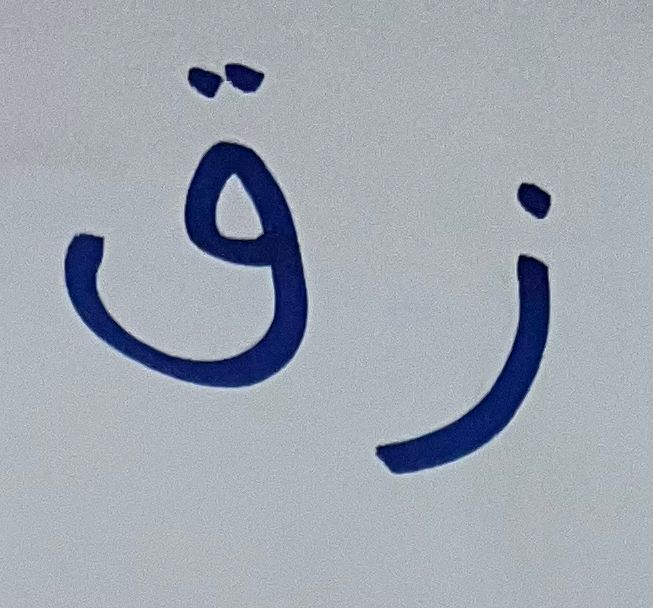qaf: (39, 28, 327, 397)
zain: (351, 130, 585, 519)
